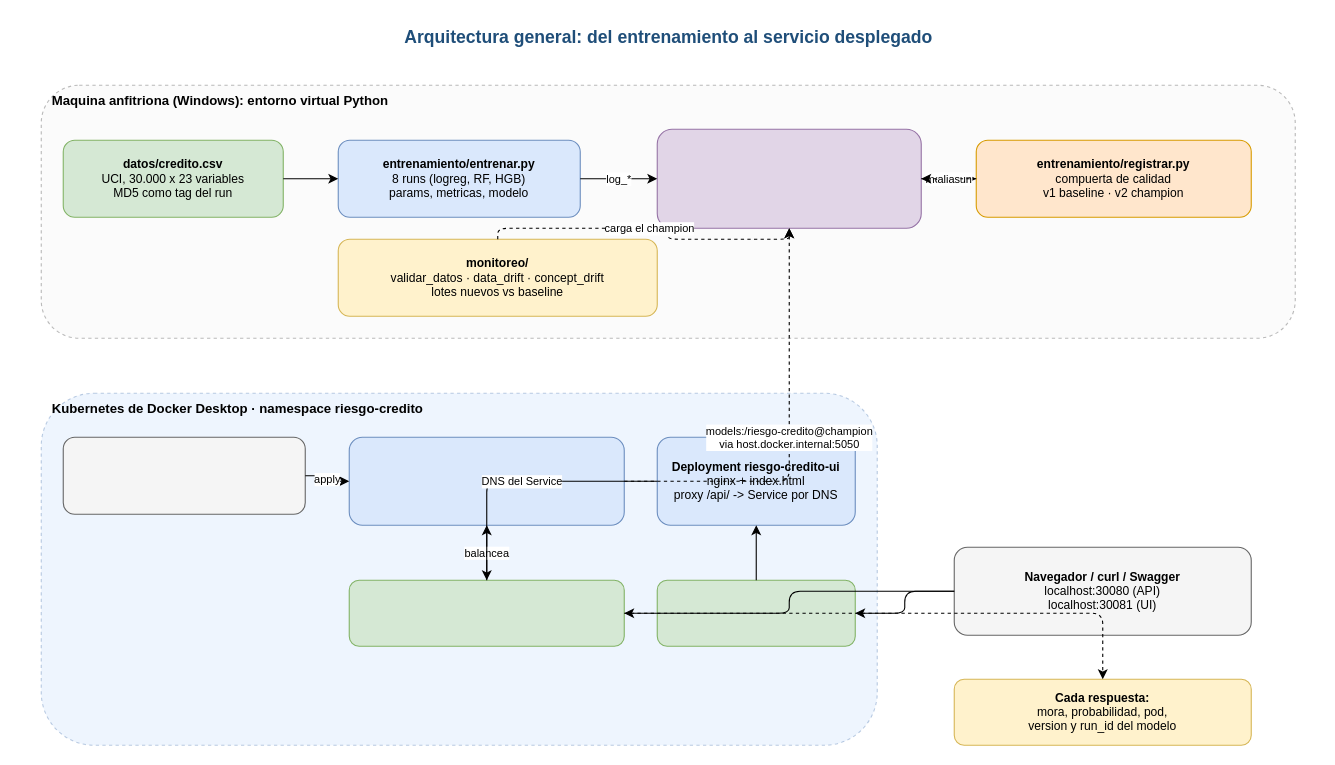
The diagram is 1335 pixels wide and 765 high, and some of its shapes have lost their labels. The centre of each missing label's shape, as x and y in pixels:
"Deployment riesgo-credito-api 3 pods FastAPI readiness /health · liveness /vivo" belongs at point 486,480.
"Imagen Docker riesgo-credito-api:1.0 (codigo + dependencias, sin modelo)" belongs at point 183,475.
"MLflow server :5050 tracking + Model Registry + UI SQLite + artefactos" belongs at point 788,178.
"Service riesgo-credito-api NodePort 30080" belongs at point 486,612.
"Service riesgo-credito-ui NodePort 30081" belongs at point 755,612.
